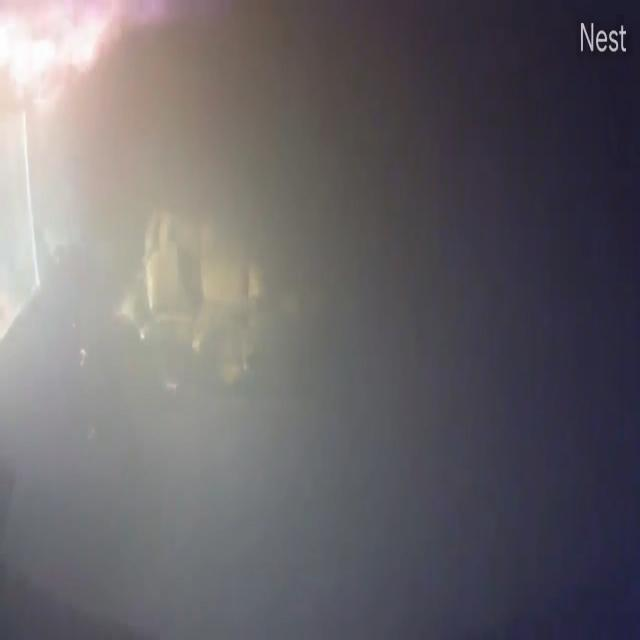Fire: (5, 0, 202, 308)
